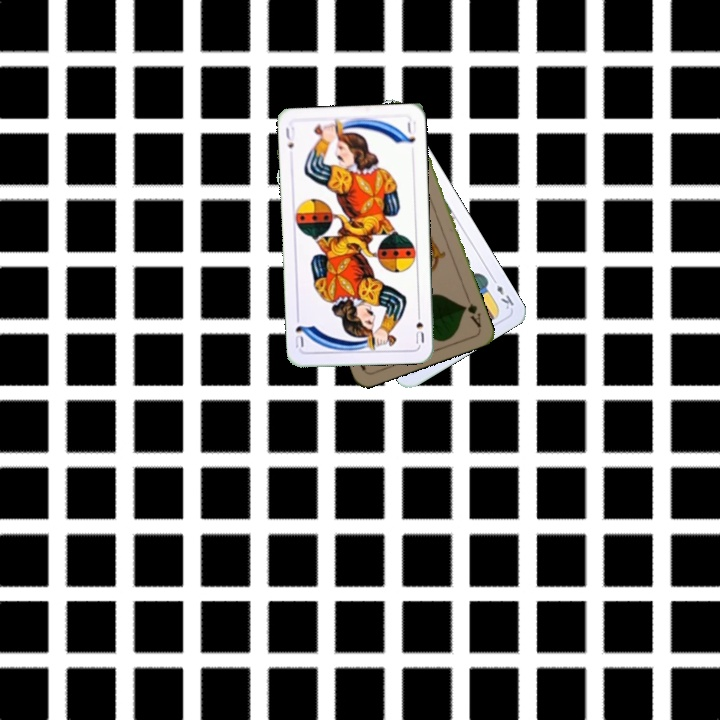EK: (488, 274, 516, 312)
GA: (459, 291, 484, 330)
SU: (412, 307, 426, 346), (281, 123, 297, 151)
